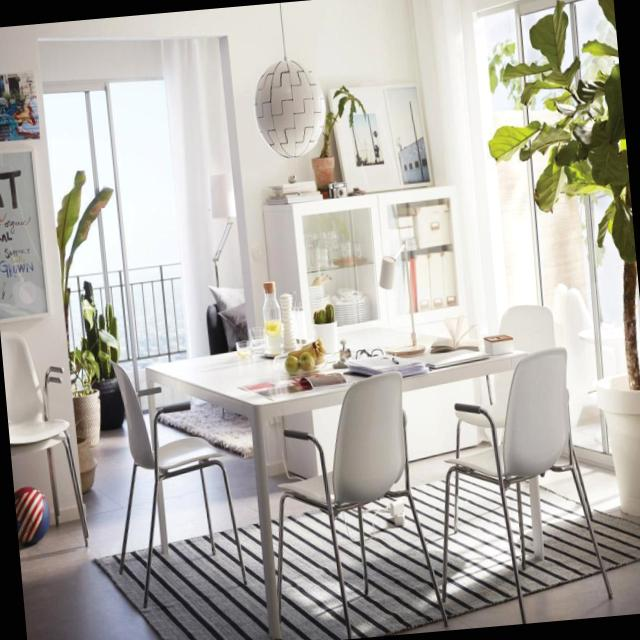obstacle: (95, 284, 613, 640), (568, 75, 640, 522), (0, 320, 93, 568)
